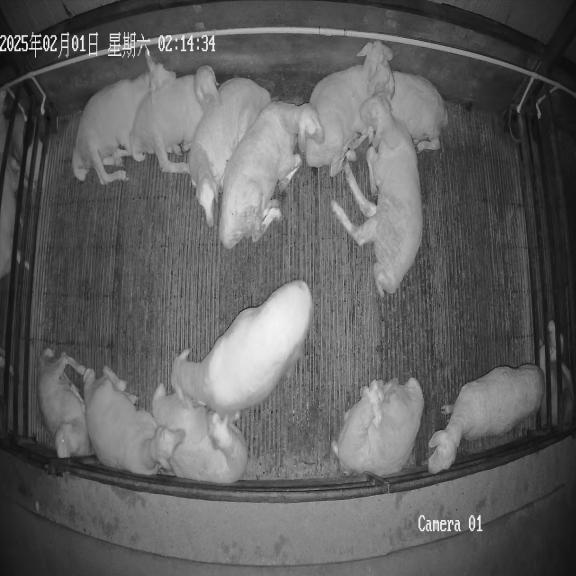lying: (331, 91, 422, 296), (219, 101, 324, 249), (72, 56, 176, 184), (299, 41, 393, 176), (188, 78, 270, 227), (84, 367, 184, 475), (151, 384, 248, 484), (129, 66, 218, 173), (332, 378, 424, 477), (369, 54, 448, 151), (37, 348, 90, 457)
stand: (171, 280, 313, 418), (428, 364, 545, 474)
